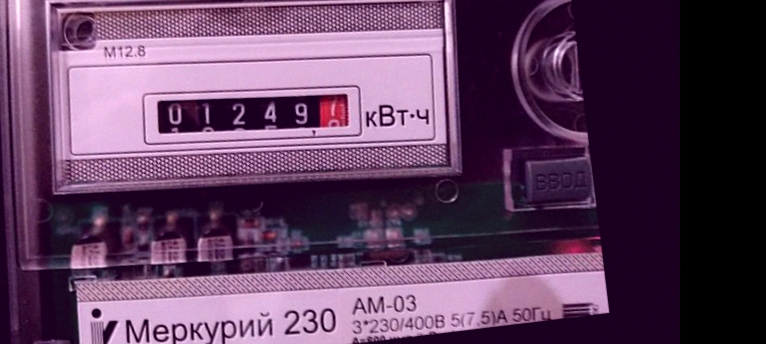0: (166, 100, 186, 128)
1: (198, 99, 215, 127)
2: (228, 101, 248, 129)
4: (261, 98, 280, 125)
7: (325, 92, 343, 119)
9: (291, 100, 311, 127)
screen: (137, 66, 369, 165)
